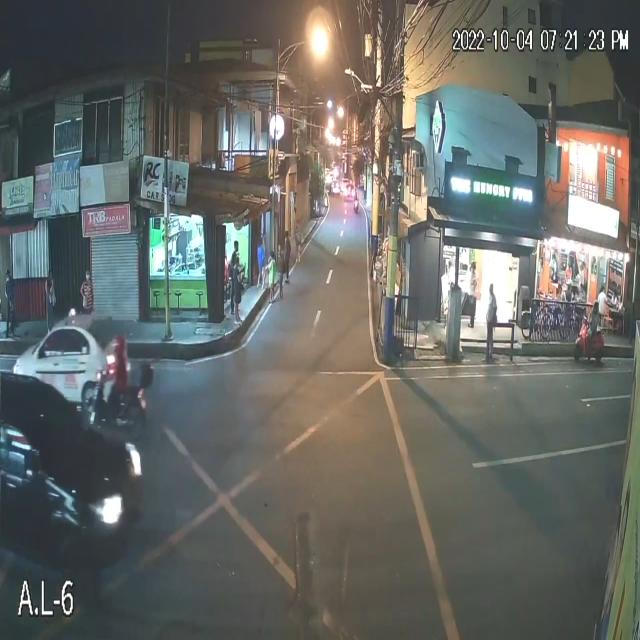Full-Faced: (106, 330, 128, 356)
